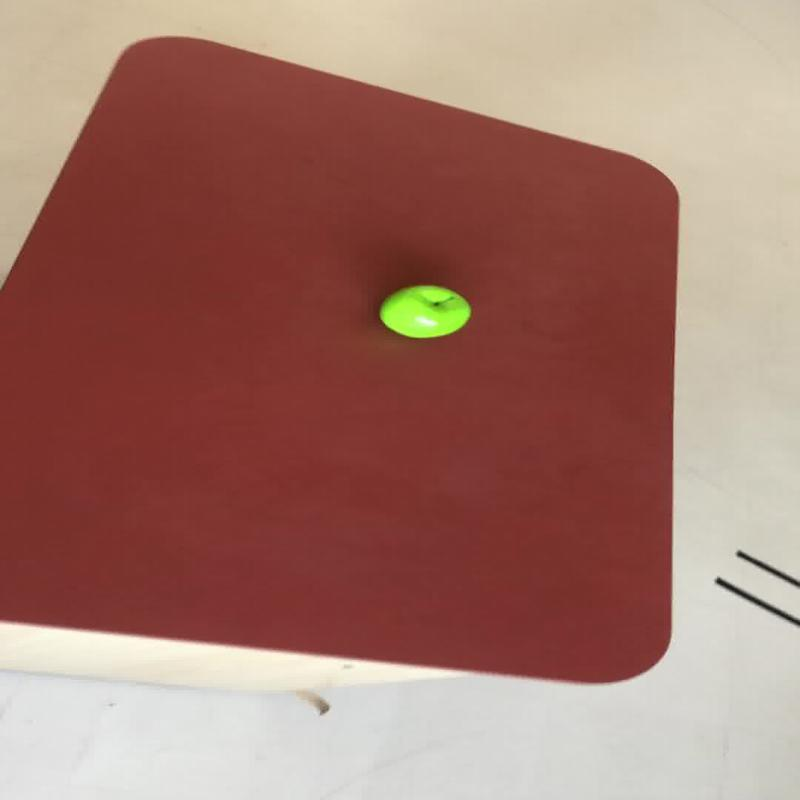apple: (377, 284, 470, 338)
